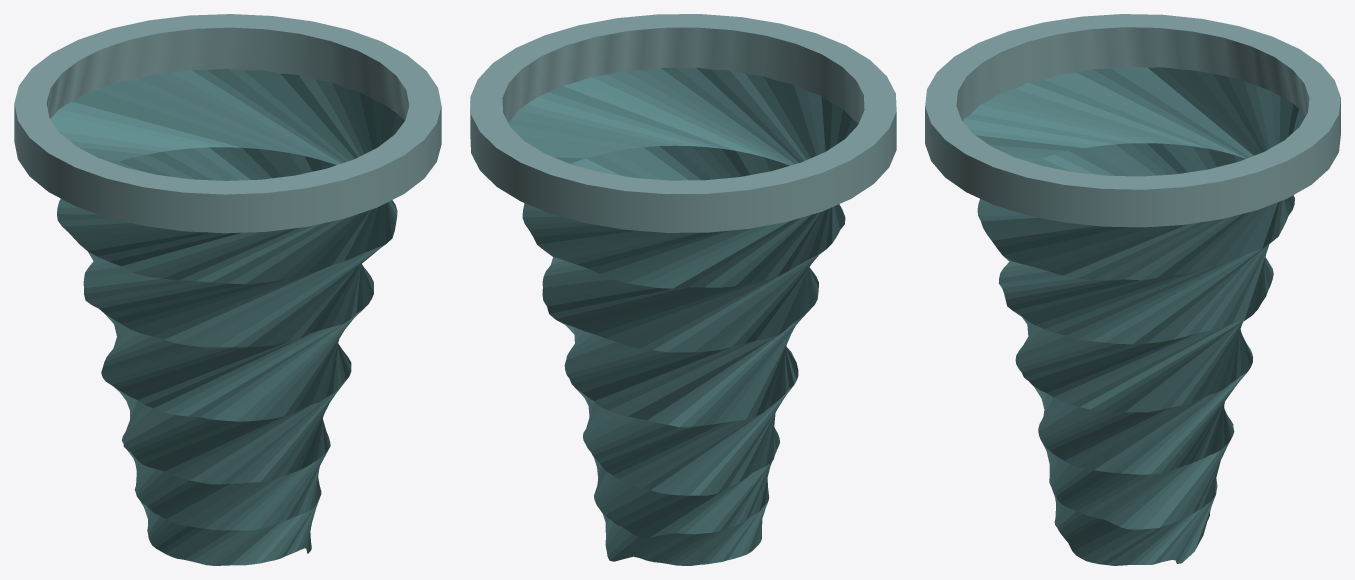
Rendered from ring tornado animated.fbx.
The picture shows the model from 3 angles, left to right: view 1: azimuth 30°, elevation 25°; view 2: azimuth 150°, elevation 25°; view 3: azimuth 270°, elevation 25°; orthographic projection. The views are drawn at different scales.
Parts seen in each view (by area): view 1: Cylinder1; view 2: Cylinder1; view 3: Cylinder1.
Part boxes in pixels (box(x1,y1,x2,y2)): Cylinder1: box(14, 14, 441, 565); Cylinder1: box(470, 14, 896, 565); Cylinder1: box(925, 14, 1340, 565).
Bounding box in the file's own units: 113 × 131 × 113.
